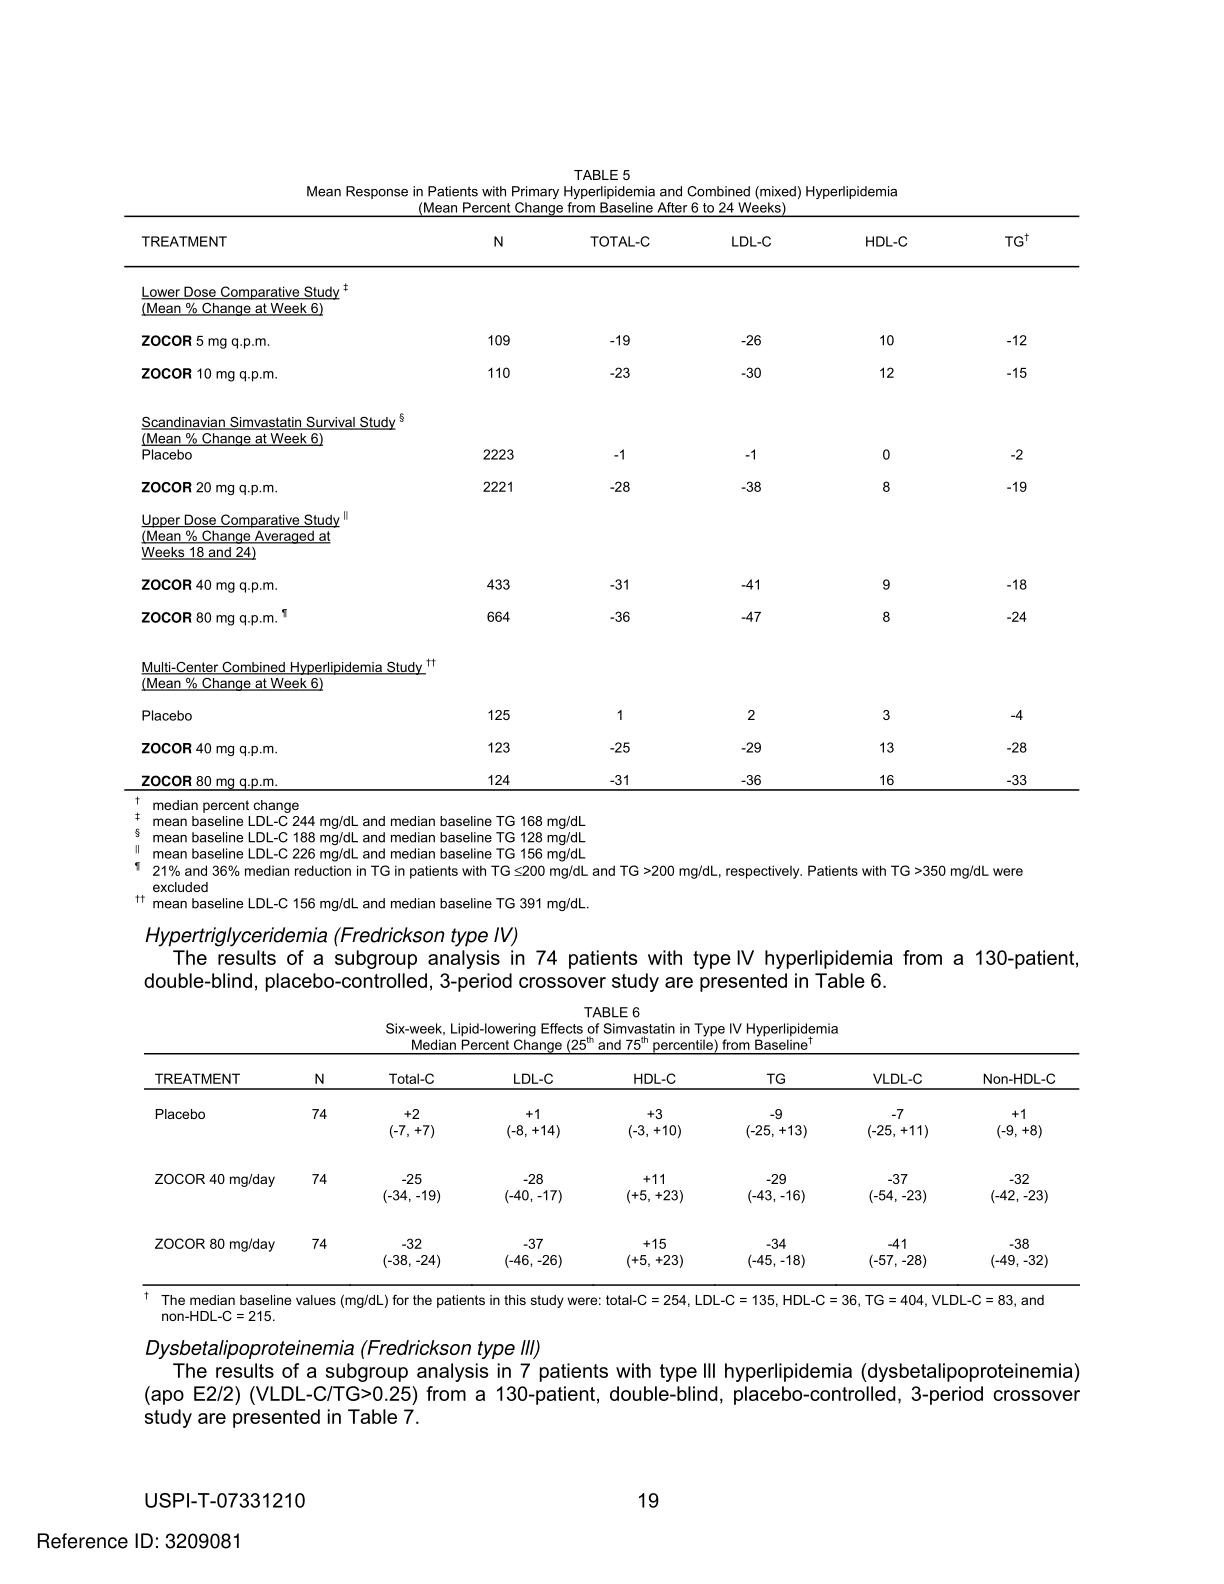partial_lined: (120, 213, 1084, 795), (141, 1050, 1085, 1290)
